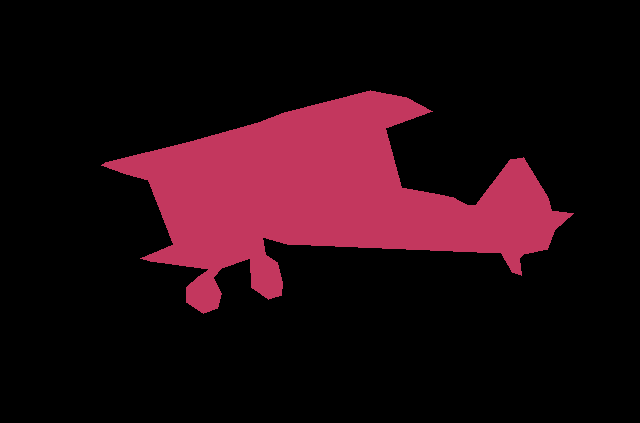Airplane: (101, 90, 574, 314)
